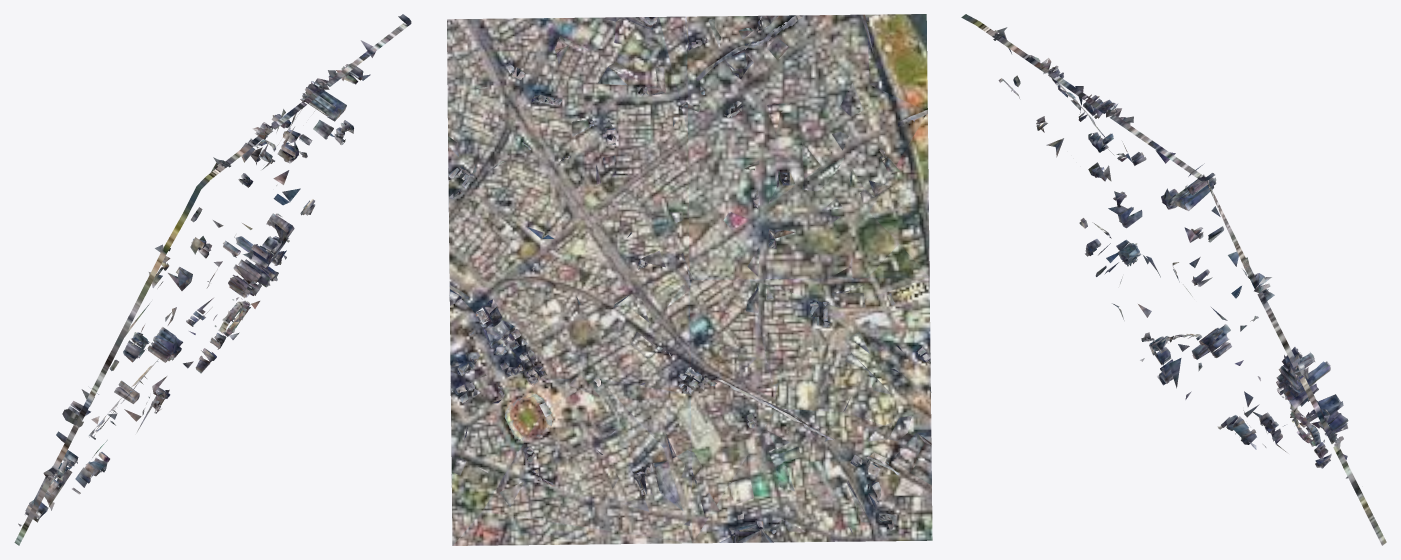
3 views of the same model, side by side, from view 1: azimuth 30°, elevation 25°; view 2: azimuth 150°, elevation 25°; view 3: azimuth 270°, elevation 25° (orthographic). The views are drawn at different scales.
Bounding box in the file's own units: 2457 × 2245 × 2068.
2 materials, 2 textured.
